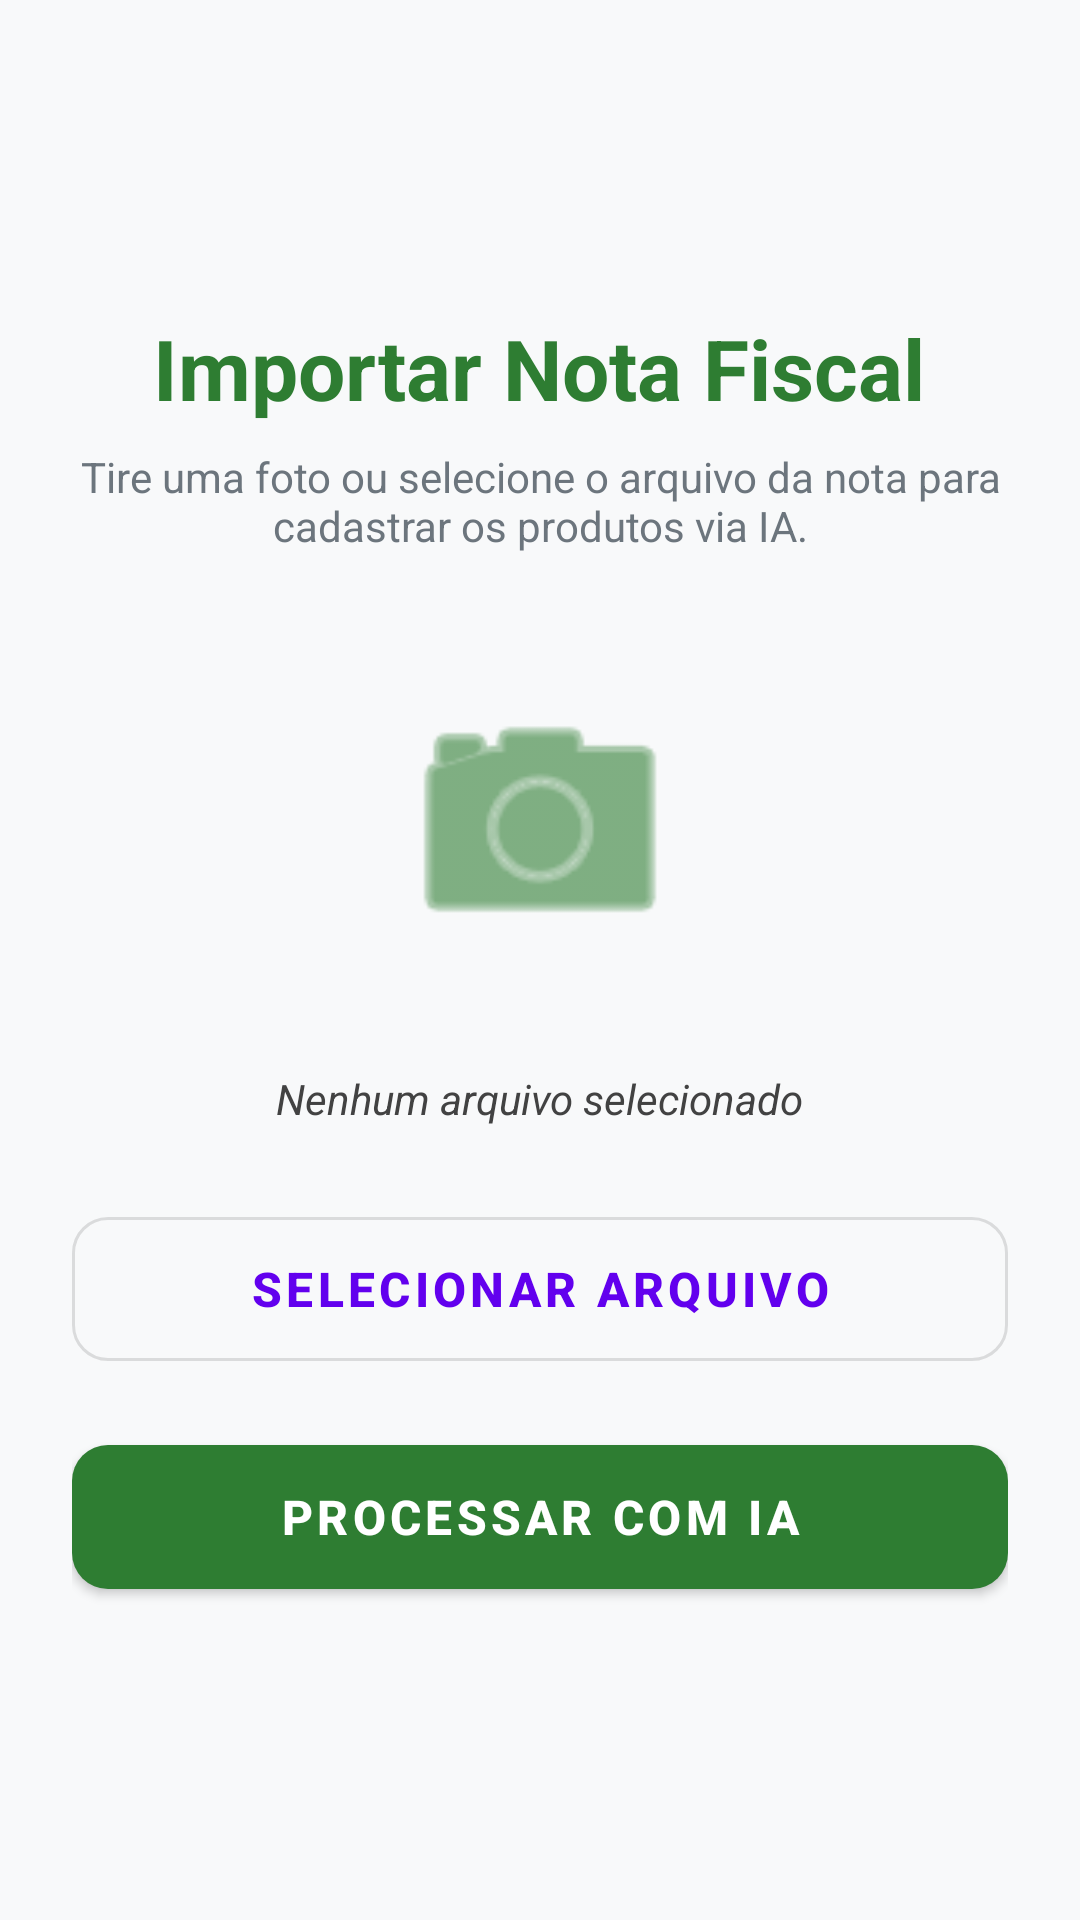

Named icons in this screenshot (1080w x 1920h) and their bounding boxes, (x1, y1, x2, y2):
camera: (424, 727, 656, 912)
